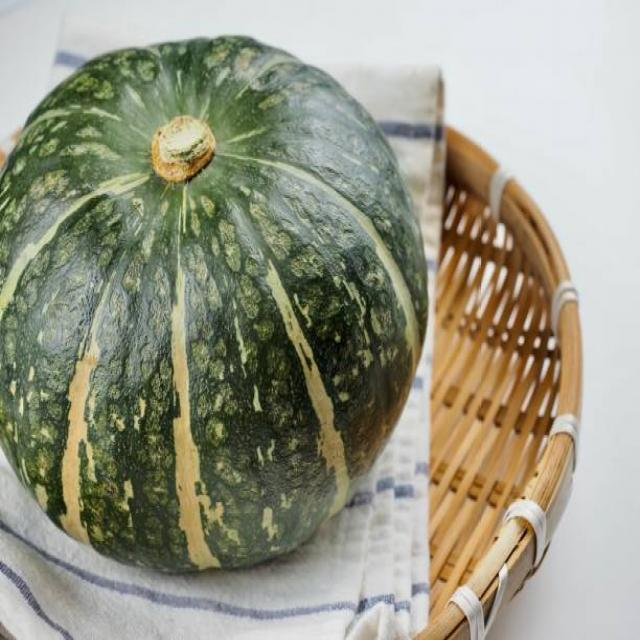pumpkin: (0, 28, 432, 581)
